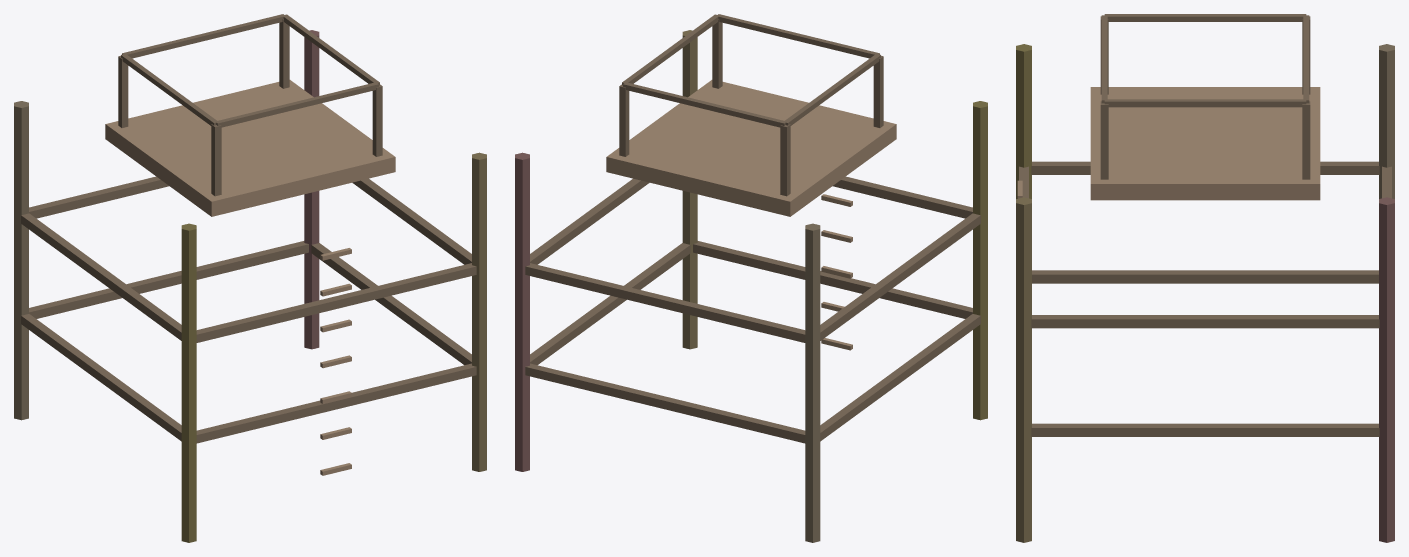
Rendered from watchtower.glb.
3 views of the same model, side by side, from view 1: azimuth 30°, elevation 25°; view 2: azimuth 150°, elevation 25°; view 3: azimuth 270°, elevation 25° (orthographic). The views are drawn at different scales.
Visible parts, largest first — view 1: platform_deck, leg_01, leg_03, leg_00, brace_hi_s, brace_lo_s, brace_lo_n, leg_02, brace_lo_w, brace_hi_w, brace_lo_e, brace_hi_e (+9 smaller); view 2: platform_deck, leg_00, leg_02, leg_01, brace_lo_n, brace_hi_n, brace_lo_s, leg_03, brace_lo_w, brace_hi_w, brace_lo_e, brace_hi_e (+9 smaller); view 3: platform_deck, leg_02, leg_03, brace_hi_e, brace_lo_e, brace_lo_w, leg_00, leg_01, rbar_e, brace_hi_w, rbar_w, rail_post_1 (+3 smaller).
Part boxes in pixels (bbox=[...]): platform_deck: bbox=[105, 80, 395, 216]; leg_01: bbox=[181, 223, 196, 542]; leg_03: bbox=[472, 152, 486, 471]; leg_00: bbox=[14, 101, 28, 420]; brace_hi_s: bbox=[196, 263, 476, 342]; brace_lo_s: bbox=[196, 363, 476, 443]; brace_lo_n: bbox=[29, 241, 308, 318]; leg_02: bbox=[304, 30, 319, 349]; brace_lo_w: bbox=[21, 314, 181, 441]; brace_hi_w: bbox=[21, 213, 181, 340]; brace_lo_e: bbox=[311, 243, 471, 365]; brace_hi_e: bbox=[352, 178, 471, 264]; platform_deck: bbox=[606, 80, 896, 216]; leg_00: bbox=[805, 223, 820, 542]; leg_02: bbox=[515, 152, 529, 471]; leg_01: bbox=[973, 101, 987, 420]; brace_lo_n: bbox=[525, 363, 805, 443]; brace_hi_n: bbox=[525, 263, 805, 342]; brace_lo_s: bbox=[693, 241, 972, 318]; leg_03: bbox=[682, 30, 697, 349]; brace_lo_w: bbox=[820, 314, 980, 441]; brace_hi_w: bbox=[820, 213, 980, 340]; brace_lo_e: bbox=[530, 243, 690, 365]; brace_hi_e: bbox=[530, 178, 649, 264]; platform_deck: bbox=[1090, 87, 1320, 200]; leg_02: bbox=[1379, 197, 1394, 542]; leg_03: bbox=[1016, 197, 1031, 542]; brace_hi_e: bbox=[1031, 315, 1379, 328]; brace_lo_e: bbox=[1031, 423, 1379, 436]; brace_lo_w: bbox=[1032, 270, 1378, 283]; leg_00: bbox=[1379, 44, 1394, 198]; leg_01: bbox=[1016, 44, 1031, 198]; rbar_e: bbox=[1104, 99, 1306, 107]; brace_hi_w: bbox=[1031, 161, 1379, 174]; rbar_w: bbox=[1104, 14, 1306, 21]; rail_post_1: bbox=[1100, 101, 1108, 179].
Size of the model in its own units: 3.78 by 4.43 by 3.76.
